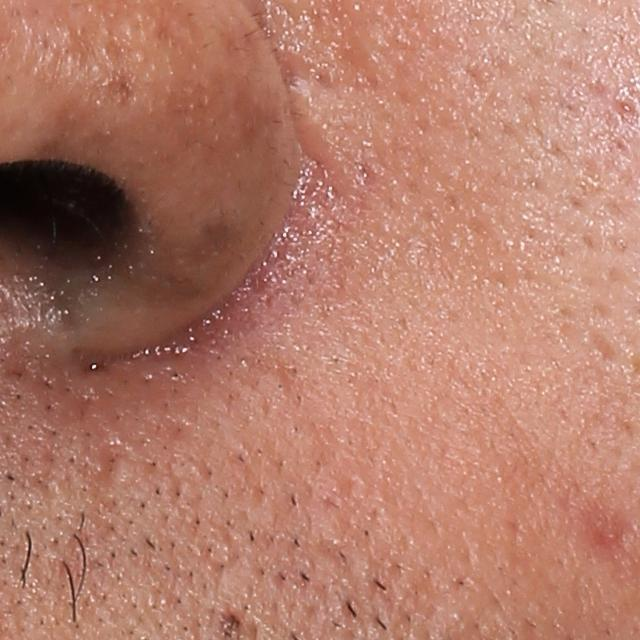atrophic_scar: (53, 444, 144, 601)
nevus: (220, 608, 247, 635)
